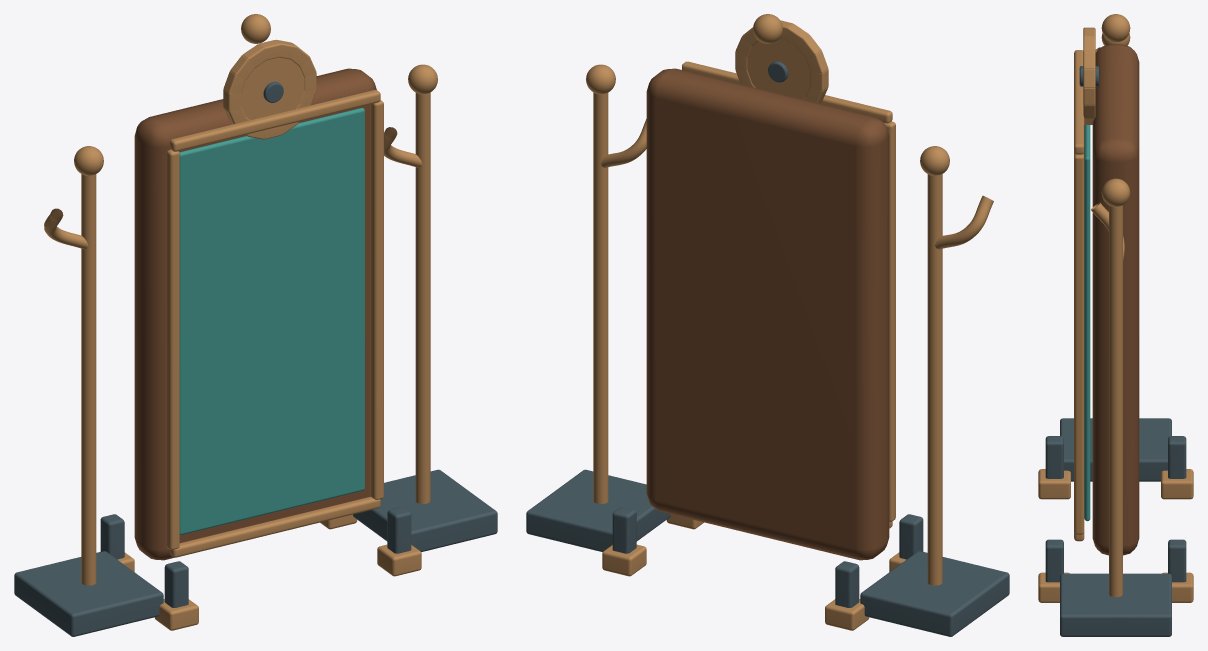
Rendered from Wardrobe.fbx.
The picture shows the model from 3 angles, left to right: view 1: azimuth 30°, elevation 25°; view 2: azimuth 150°, elevation 25°; view 3: azimuth 270°, elevation 25°; orthographic projection. The views are drawn at different scales.
Parts seen in each view (by area): view 1: Wardrobe; view 2: Wardrobe; view 3: Wardrobe.
Part boxes in pixels (x1,y1,x2,y2): Wardrobe: (14,14,497,636); Wardrobe: (526,14,1009,636); Wardrobe: (1038,14,1193,636).
Bounding box in the file's own units: 231 × 76 × 287.
